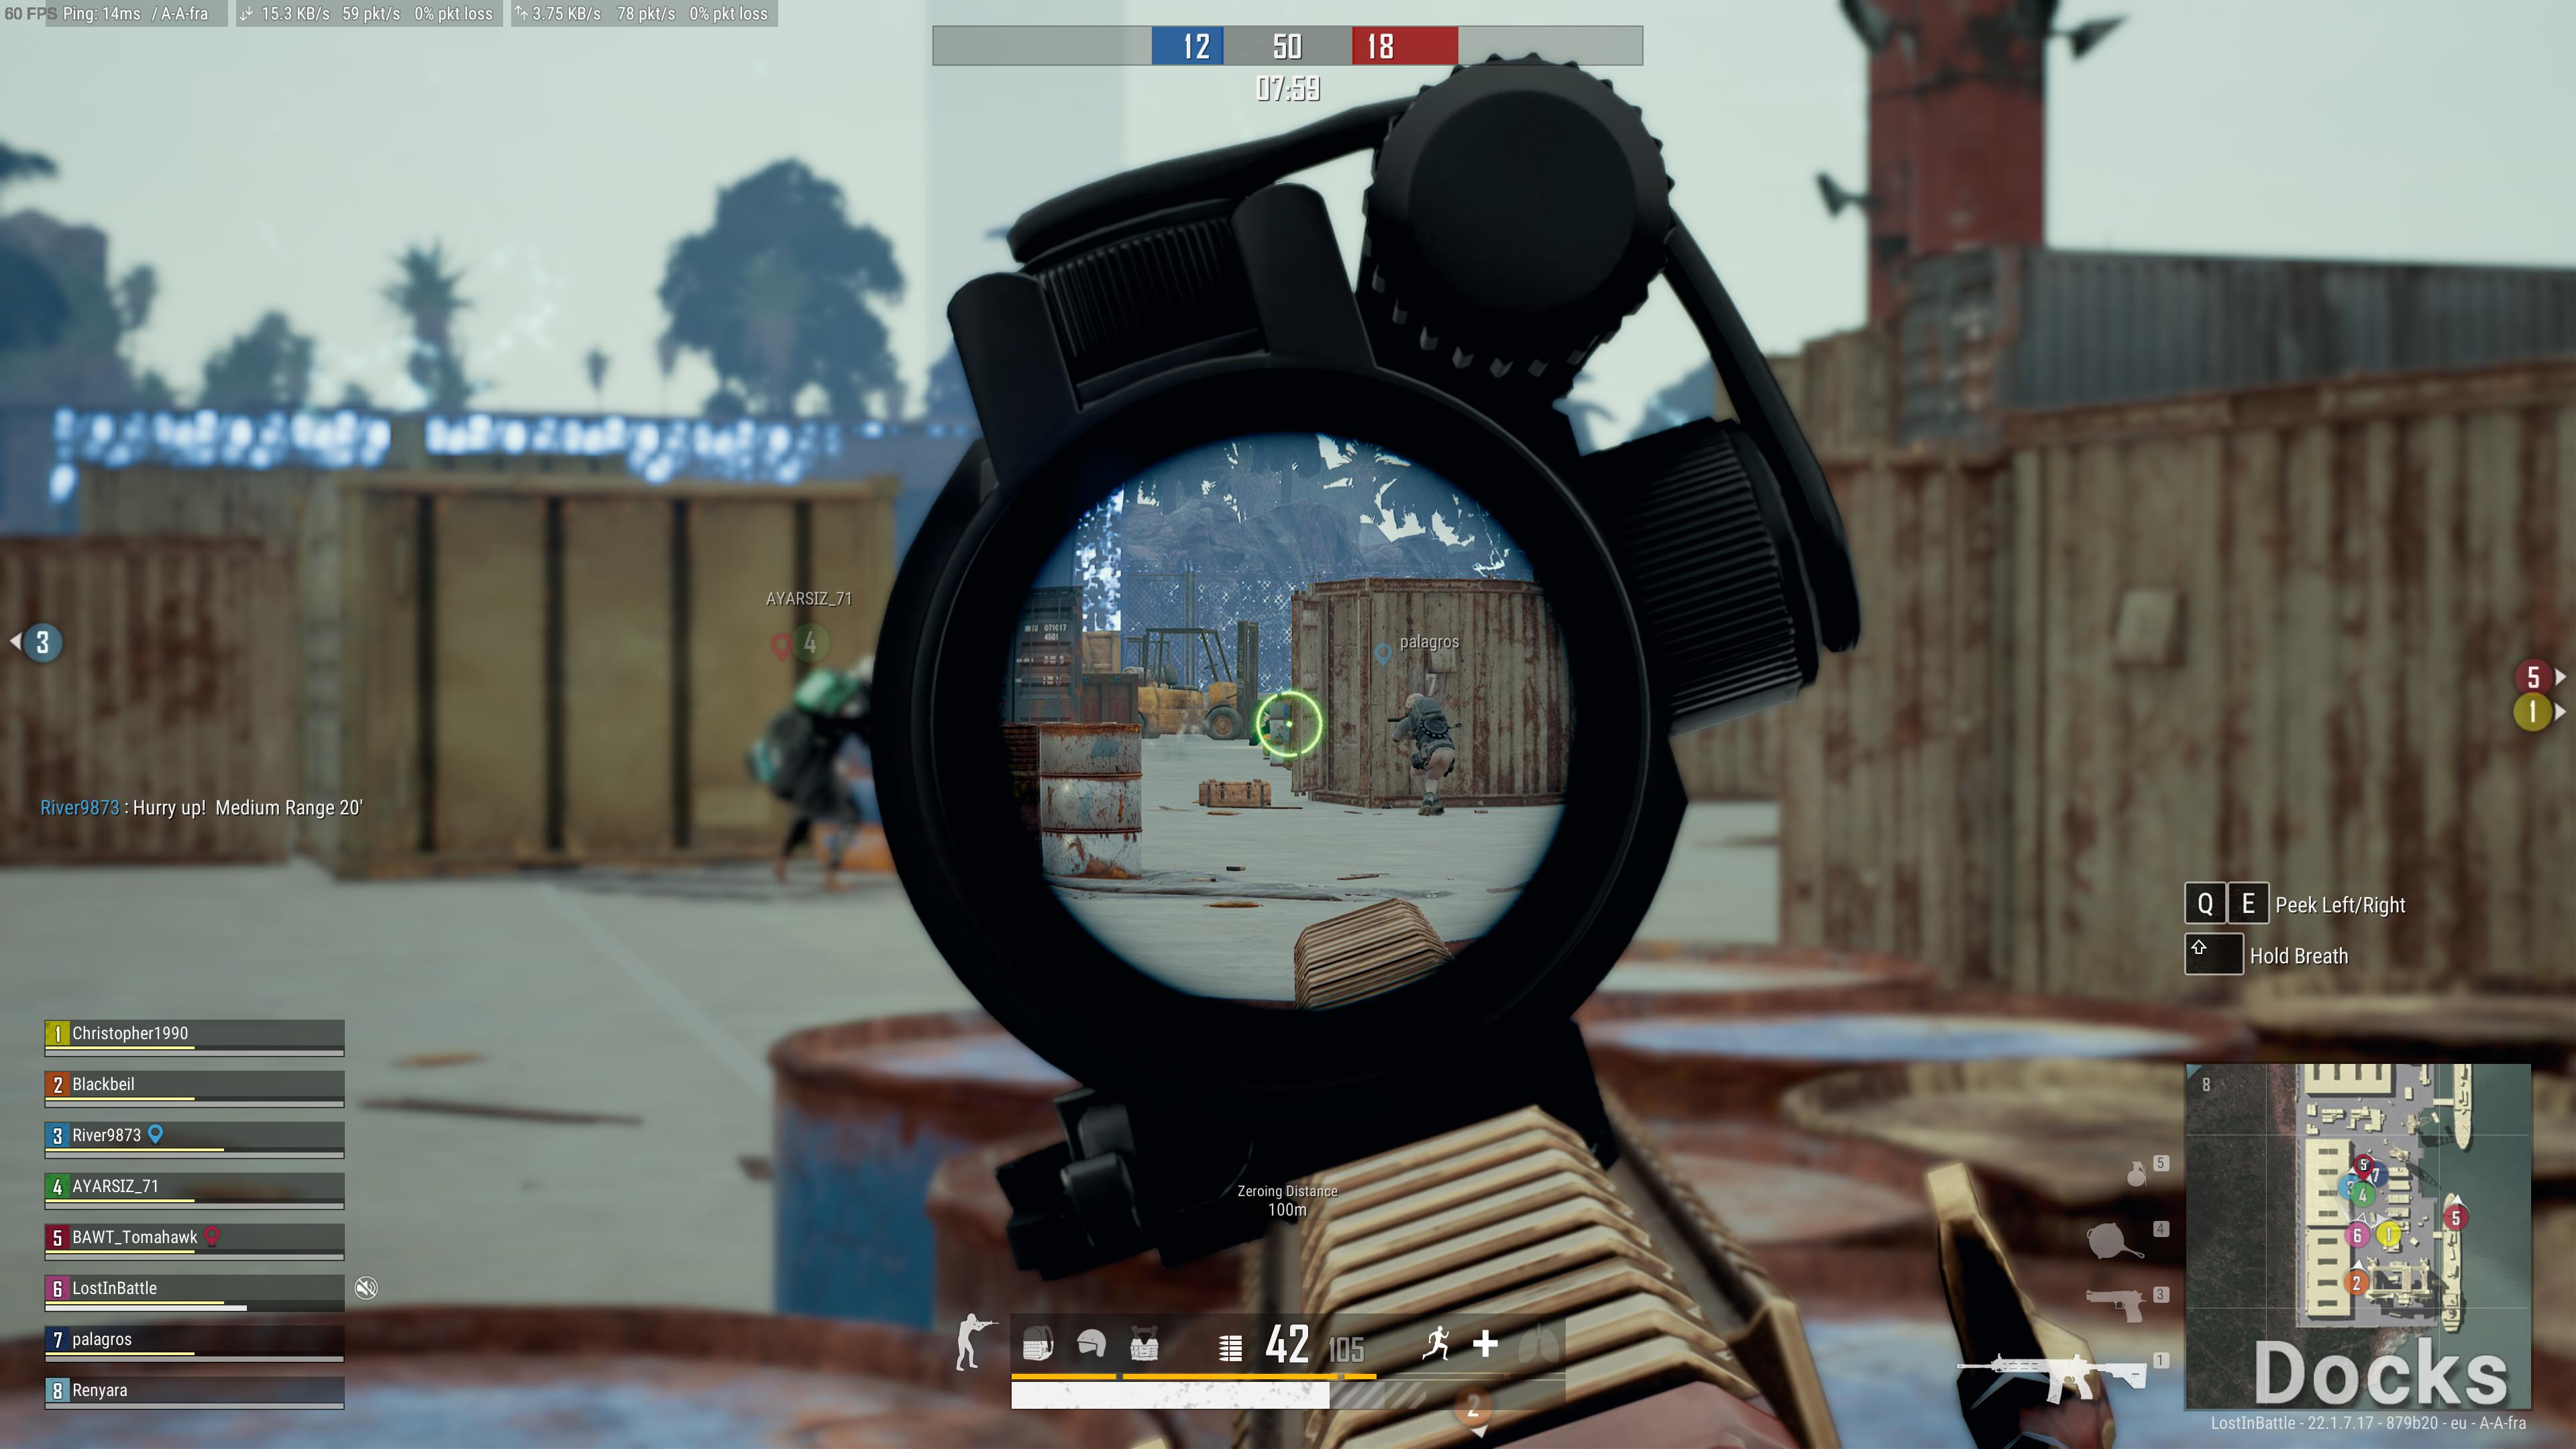friendly: (741, 637, 878, 886), (1389, 683, 1456, 817)
